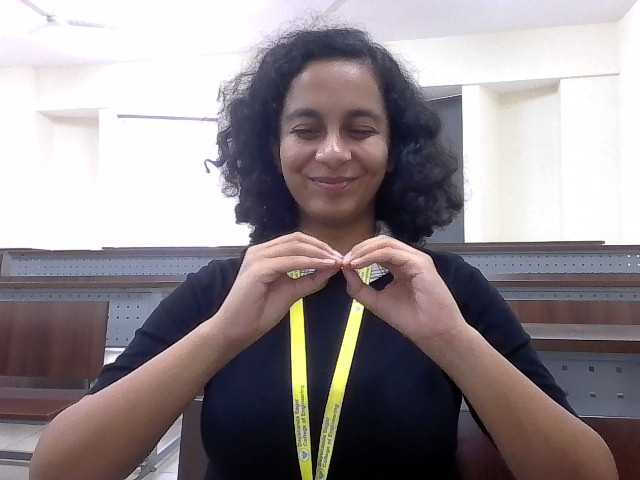B: (145, 177, 546, 412)
